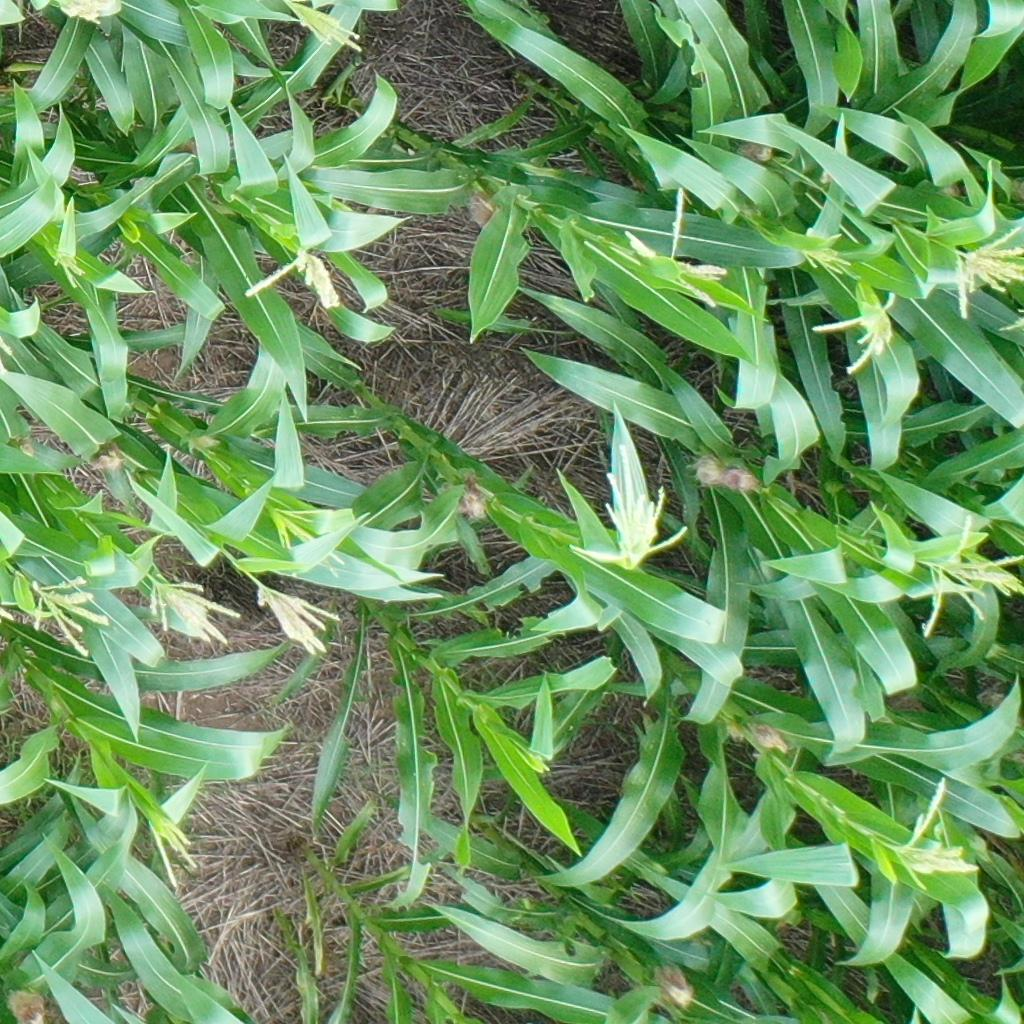Tassel: (567, 436, 692, 571), (912, 509, 1024, 637), (621, 183, 730, 313), (891, 770, 981, 897), (22, 571, 114, 662), (263, 492, 356, 581), (811, 288, 900, 371), (238, 246, 349, 312), (145, 570, 244, 644), (251, 577, 340, 658), (950, 226, 1024, 322), (282, 1, 369, 53), (146, 808, 198, 893), (796, 224, 856, 273), (52, 247, 89, 291), (52, 1, 116, 26), (513, 736, 552, 772)
